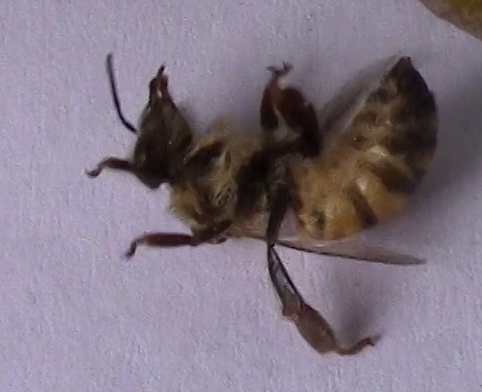Varroa destructor: (190, 221, 232, 246)
